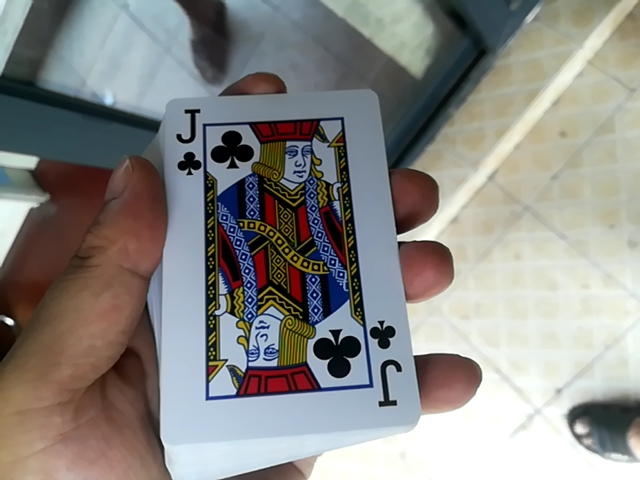mh j: (161, 70, 423, 452)
